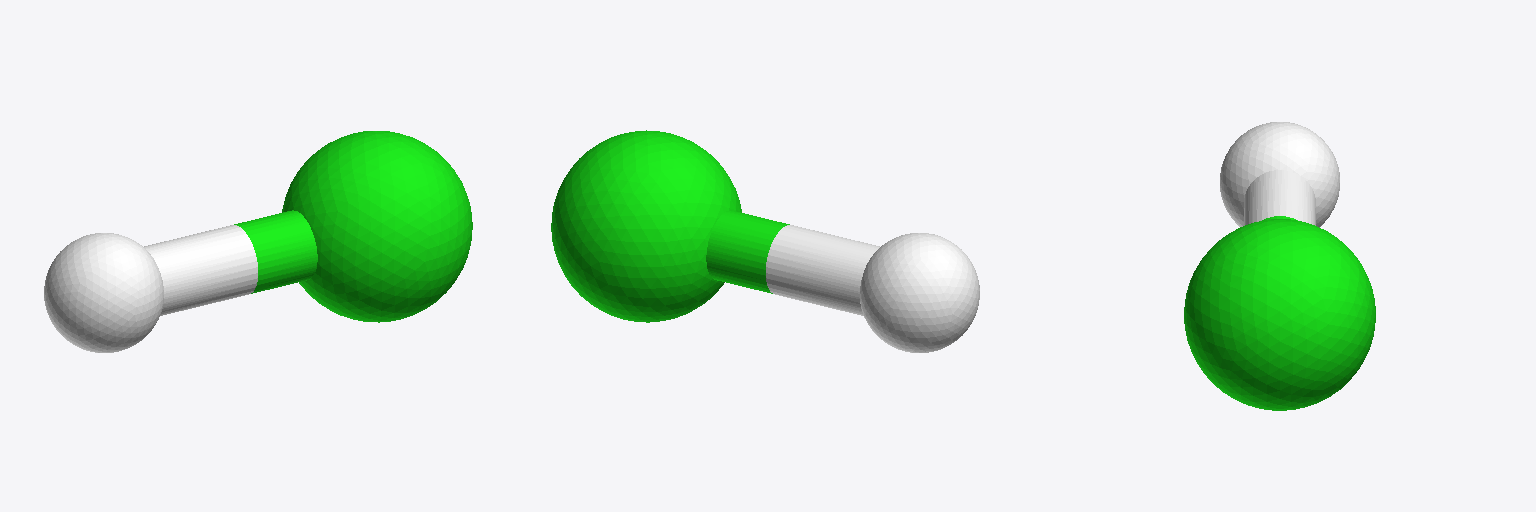
The model's file is hydrochloricacid.obj.
3 views of the same model, side by side, from view 1: azimuth 30°, elevation 25°; view 2: azimuth 150°, elevation 25°; view 3: azimuth 270°, elevation 25° (orthographic).
Visible parts, largest first — view 1: Cl1_Atom, H2_Atom, Cylinder2, Cylinder1; view 2: Cl1_Atom, H2_Atom, Cylinder2, Cylinder1; view 3: Cl1_Atom, H2_Atom, Cylinder2.
Part boxes in pixels (x1,y1,x2,y2): Cl1_Atom: (282, 131, 472, 322); H2_Atom: (44, 233, 163, 352); Cylinder2: (144, 225, 257, 315); Cylinder1: (234, 210, 317, 293); Cl1_Atom: (551, 130, 741, 322); H2_Atom: (860, 233, 979, 352); Cylinder2: (766, 225, 879, 315); Cylinder1: (706, 210, 789, 293); Cl1_Atom: (1184, 219, 1375, 410); H2_Atom: (1220, 122, 1339, 227); Cylinder2: (1244, 170, 1315, 225).
Bounding box in the file's own units: 1.97 × 0.805 × 0.805.